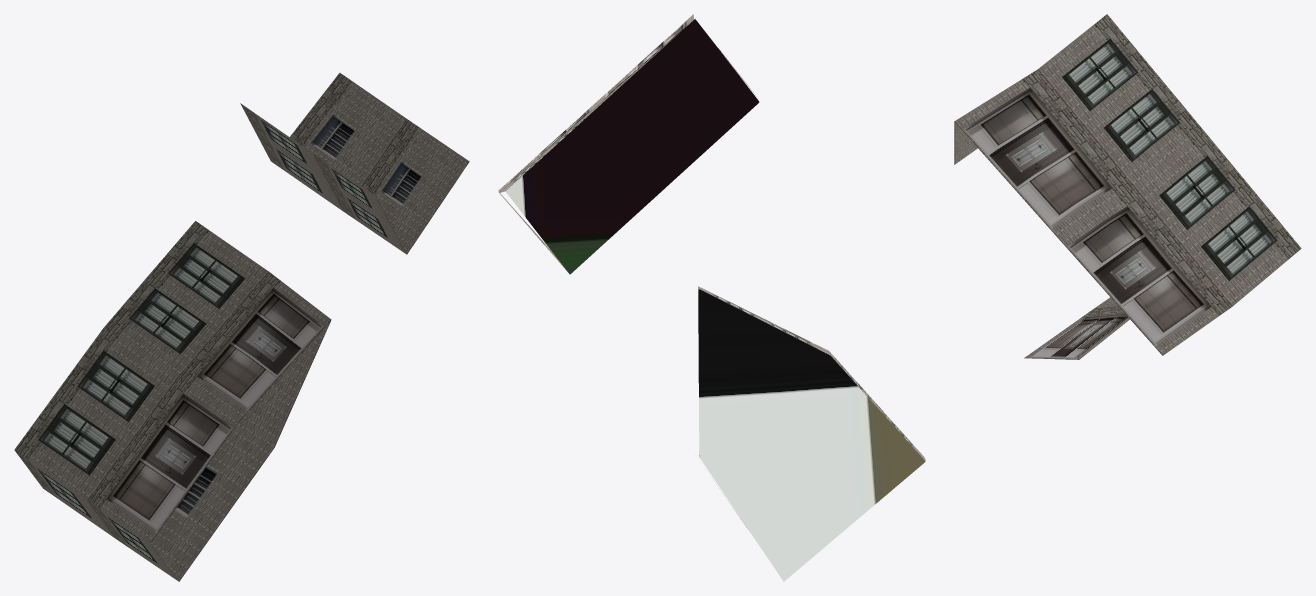
The model's file is tile_LOD8_r5_c1.glb.
3 views of the same model, side by side, from view 1: azimuth 30°, elevation 25°; view 2: azimuth 150°, elevation 25°; view 3: azimuth 270°, elevation 25° (orthographic). The views are drawn at different scales.
Size of the model in its own units: 21.5 by 25 by 12.5.
Materials: 6 (6 with a texture image).
